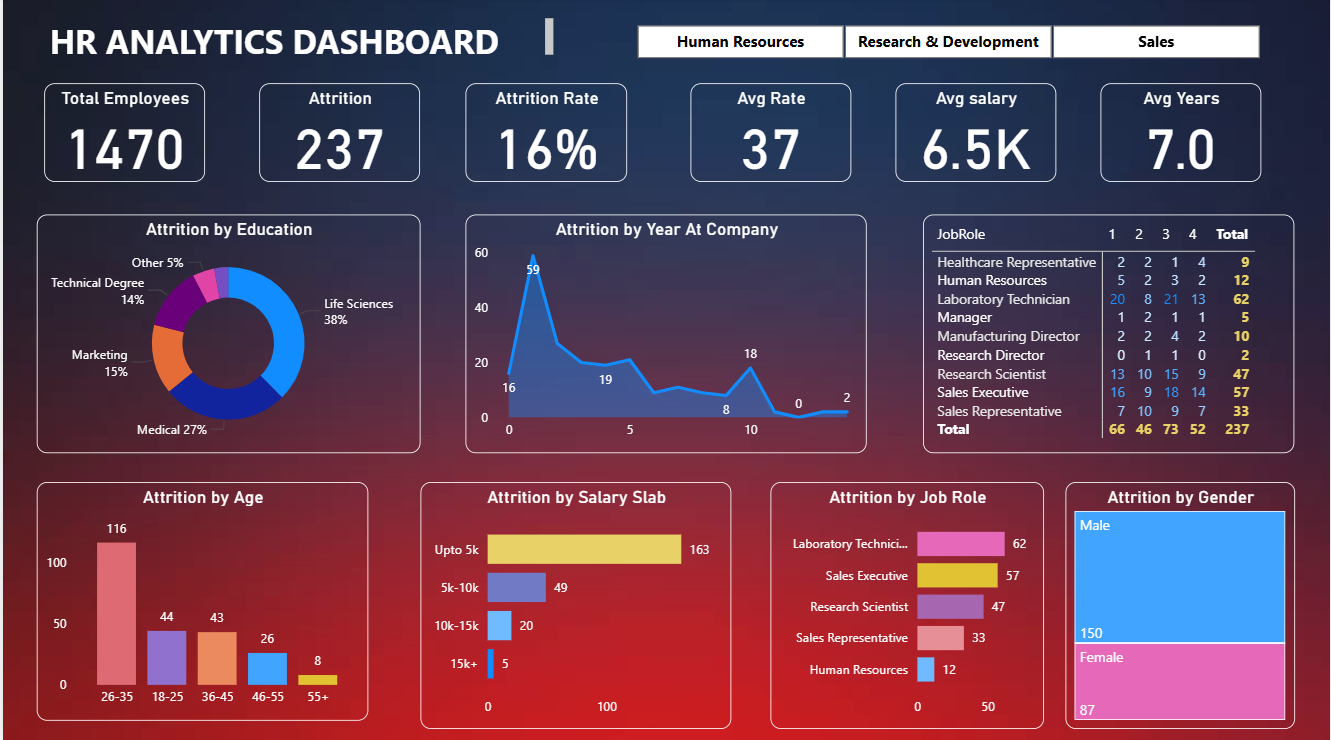

This screenshot's page, from the dashboard's own definition file:
{"tool":"powerbi","page":{"name":"Page 1","canvas":[1280,720],"ordinal":0},"visuals":[{"type":"card","title":"Total Employees","fields":{"Values":["Count(HR_Analytics.EmpID)"]},"box":[39.8,83.7,155.1,94.9],"z":0},{"type":"card","title":"Attrition","fields":{"Values":["Sum(HR_Analytics.AttritionCount)"]},"box":[247.5,83.8,155,95],"z":1},{"type":"card","title":"Attrition Rate","fields":{"Values":["HR_Analytics.AttritionRate"]},"box":[446.2,83.8,156.2,95],"z":2},{"type":"card","title":"Avg Rate","fields":{"Values":["Avg(HR_Analytics.Age)"]},"box":[663.8,83.8,155,95],"z":3},{"type":"card","title":"Avg salary","fields":{"Values":["Avg(HR_Analytics.MonthlyIncome)"]},"box":[861.2,83.8,155,95],"z":4},{"type":"card","title":"Avg Years","fields":{"Values":["Avg(HR_Analytics.YearsAtCompany)"]},"box":[1058.8,83.8,155,95],"z":5},{"type":"columnChart","title":"Attrition by Age","fields":{"Category":["HR_Analytics.AgeGroup"],"Y":["Sum(HR_Analytics.AttritionCount)"]},"box":[32.5,467.5,320,230],"z":6},{"type":"donutChart","title":" Attrition by Education","fields":{"Category":["HR_Analytics.EducationField"],"Y":["Sum(HR_Analytics.AttritionCount)"]},"box":[32.5,210,370,230],"z":7},{"type":"pivotTable","fields":{"Rows":["HR_Analytics.JobRole"],"Columns":["HR_Analytics.JobSatisfaction"],"Values":["Sum(HR_Analytics.AttritionCount)"]},"box":[887.5,210,358.8,230],"z":8},{"type":"clusteredBarChart","title":"Attrition by Salary Slab","fields":{"Category":["HR_Analytics.SalarySlab"],"Y":["Sum(HR_Analytics.AttritionCount)"]},"box":[402.5,467.5,300,238.8],"z":9},{"type":"clusteredBarChart","title":"Attrition by Job Role","fields":{"Category":["HR_Analytics.JobRole"],"Y":["Sum(HR_Analytics.AttritionCount)"]},"box":[741.2,467.5,263.8,238.8],"z":10},{"type":"areaChart","title":"Attrition by Year At Company","fields":{"Category":["HR_Analytics.YearsAtCompany"],"Y":["Sum(HR_Analytics.AttritionCount)"]},"box":[446.2,210,387.5,230],"z":11},{"type":"treemap","title":"Attrition by Gender","fields":{"Group":["HR_Analytics.Gender"],"Values":["Sum(HR_Analytics.AttritionCount)"]},"box":[1025,467.5,221.2,238.8],"z":12},{"type":"slicer","fields":{"Values":["HR_Analytics.Department"]},"box":[586.2,20,650,45],"z":13},{"type":"textbox","box":[0,16.2,536.2,48.8],"z":14}]}

Visuals, with their boxes in screenshot pixels (x1, y1, x2, y2), scaled from the page's 1280x720 canvas onto the 1331x740 screenshot:
"Total Employees" card: x1=41, y1=86, x2=203, y2=184
"Attrition" card: x1=257, y1=86, x2=419, y2=184
"Attrition Rate" card: x1=464, y1=86, x2=626, y2=184
"Avg Rate" card: x1=690, y1=86, x2=851, y2=184
"Avg salary" card: x1=896, y1=86, x2=1057, y2=184
"Avg Years" card: x1=1101, y1=86, x2=1262, y2=184
"Attrition by Age" columnChart: x1=34, y1=480, x2=367, y2=717
" Attrition by Education" donutChart: x1=34, y1=216, x2=419, y2=452
pivotTable - HR_Analytics.JobRole x HR_Analytics.JobSatisfaction: x1=923, y1=216, x2=1296, y2=452
"Attrition by Salary Slab" clusteredBarChart: x1=419, y1=480, x2=730, y2=726
"Attrition by Job Role" clusteredBarChart: x1=771, y1=480, x2=1045, y2=726
"Attrition by Year At Company" areaChart: x1=464, y1=216, x2=867, y2=452
"Attrition by Gender" treemap: x1=1066, y1=480, x2=1296, y2=726
slicer - HR_Analytics.Department: x1=610, y1=21, x2=1285, y2=67
textbox: x1=0, y1=17, x2=558, y2=67
